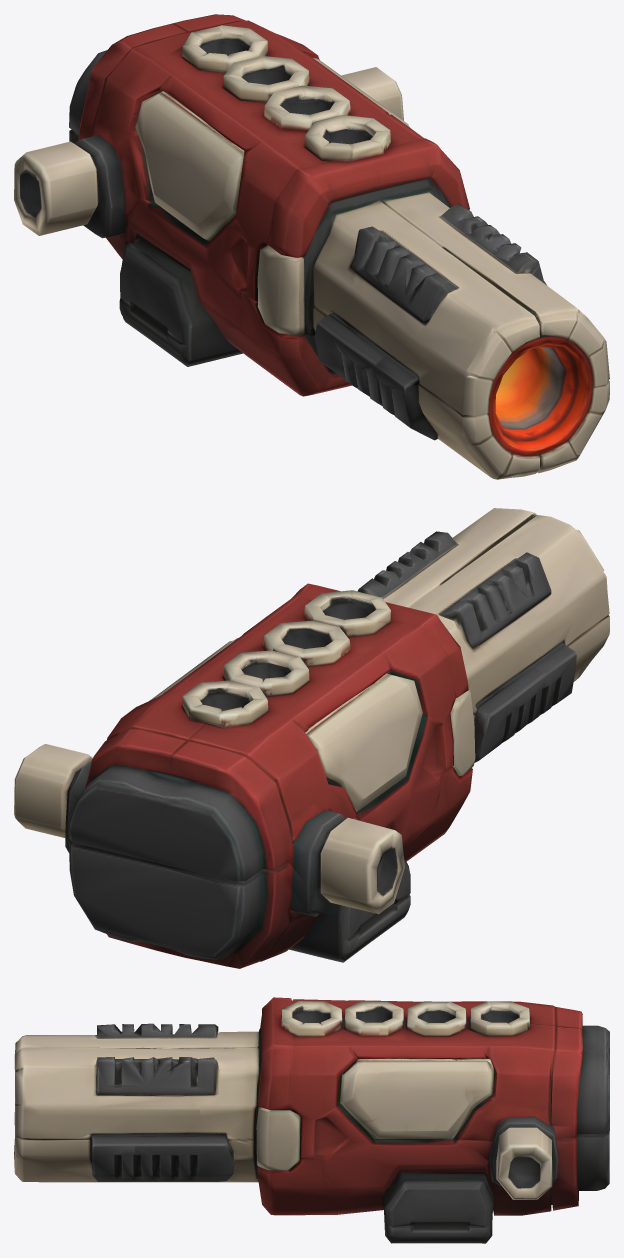
Rendered from laser-cannon.glb.
3 views of the same model, one above another, from view 1: azimuth 30°, elevation 25°; view 2: azimuth 150°, elevation 25°; view 3: azimuth 270°, elevation 25° (orthographic). The views are drawn at different scales.
Visible parts, largest first — view 1: tripo_node_eb7066fb-2e0a-4c37-979a-053fc0f339f3; view 2: tripo_node_eb7066fb-2e0a-4c37-979a-053fc0f339f3; view 3: tripo_node_eb7066fb-2e0a-4c37-979a-053fc0f339f3.
Part boxes in pixels (bbox=[...]): tripo_node_eb7066fb-2e0a-4c37-979a-053fc0f339f3: bbox=[14, 14, 609, 479]; tripo_node_eb7066fb-2e0a-4c37-979a-053fc0f339f3: bbox=[14, 508, 609, 968]; tripo_node_eb7066fb-2e0a-4c37-979a-053fc0f339f3: bbox=[14, 997, 609, 1243].
Bounding box in the file's own units: 0.521 × 0.3424 × 0.9794.
Materials: 1 (1 with a texture image).
